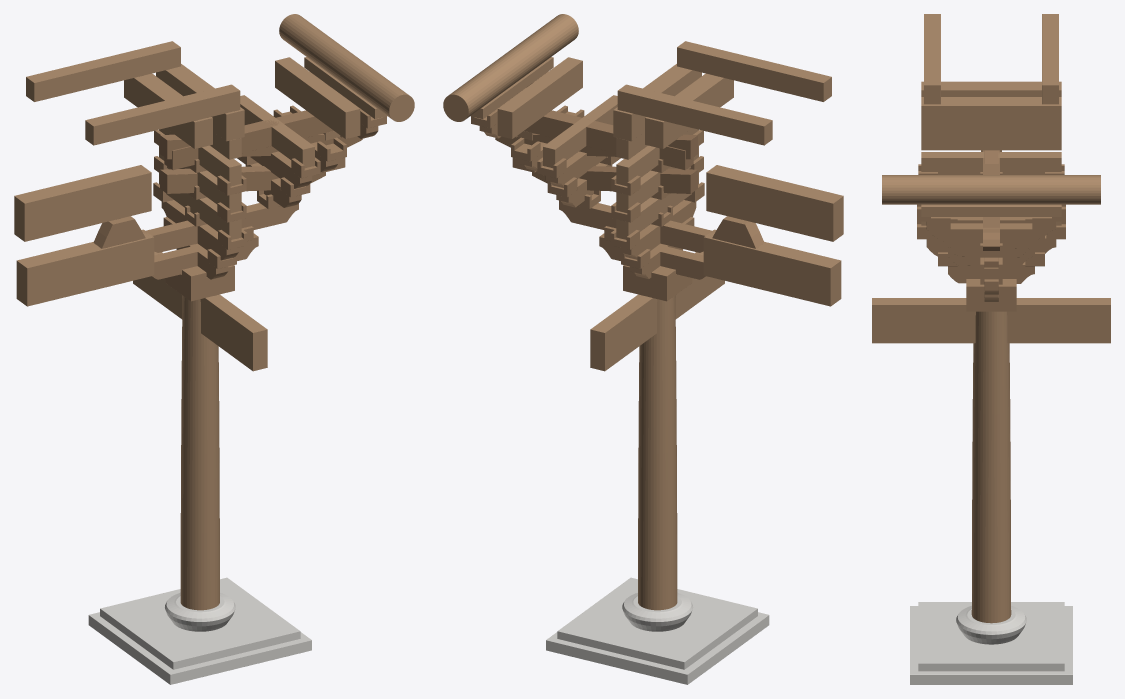
File: puzuo-zhutou-01.fbx
3 renders of one model, left to right at view 1: azimuth 30°, elevation 25°; view 2: azimuth 150°, elevation 25°; view 3: azimuth 270°, elevation 25°, orthographic.
Visible parts, largest first — view 1: A01_基座, A03_立柱, J03_草乳栿, J02_明乳栿, K02_檐槫, A04_阑额, K07_平基枋_2, K06_平基枋_1, K05_兰台枋, J01_翼形耍头, K04_压槽枋_后, D02_第二跳华栱 (+14 smaller); view 2: A01_基座, A03_立柱, J03_草乳栿, J02_明乳栿, K02_檐槫, A04_阑额, K06_平基枋_1, K07_平基枋_2, K05_兰台枋, J01_翼形耍头, K04_压槽枋_后, D02_第二跳华栱 (+14 smaller); view 3: A03_立柱, A01_基座, A04_阑额, K02_檐槫, K03_压槽枋_前, C05_柱头枋三, C06_柱头枋四, F04_令栱_跳四, K01_替木, K04_压槽枋_后, A02_柱础, K06_平基枋_1 (+10 smaller).
Boxes of the visible parts, box(x1,y1,x2,y2) form: A01_基座: box(88, 577, 311, 684); A03_立柱: box(180, 295, 219, 610); J03_草乳栿: box(14, 165, 151, 241); J02_明乳栿: box(16, 229, 154, 306); K02_檐槫: box(279, 14, 414, 121); A04_阑额: box(133, 251, 267, 371); K07_平基枋_2: box(85, 84, 240, 145); K06_平基枋_1: box(26, 41, 180, 101); K05_兰台枋: box(275, 57, 360, 138); J01_翼形耍头: box(164, 110, 333, 169); K04_压槽枋_后: box(124, 73, 212, 148); D02_第二跳华栱: box(143, 203, 298, 252); A01_基座: box(546, 577, 769, 684); A03_立柱: box(638, 295, 677, 610); J03_草乳栿: box(706, 165, 843, 241); J02_明乳栿: box(703, 229, 841, 306); K02_檐槫: box(443, 14, 578, 121); A04_阑额: box(590, 251, 724, 371); K06_平基枋_1: box(617, 84, 772, 145); K07_平基枋_2: box(677, 41, 831, 101); K05_兰台枋: box(497, 57, 582, 138); J01_翼形耍头: box(524, 110, 693, 169); K04_压槽枋_后: box(645, 73, 733, 148); D02_第二跳华栱: box(559, 200, 715, 252); A03_立柱: box(971, 311, 1011, 623); A01_基座: box(910, 602, 1072, 684); A04_阑额: box(872, 298, 1110, 343); K02_檐槫: box(882, 175, 1100, 204); K03_压槽枋_前: box(921, 97, 1061, 132); C05_柱头枋三: box(921, 152, 1061, 174); C06_柱头枋四: box(921, 132, 1061, 150); F04_令栱_跳四: box(941, 223, 1041, 248); K01_替木: box(921, 204, 1061, 216); K04_压槽枋_后: box(921, 81, 1061, 96); A02_柱础: box(956, 605, 1026, 644); K06_平基枋_1: box(1042, 14, 1058, 104).
Bounding box in the file's own units: 5.76 × 8.92 × 3.4.
